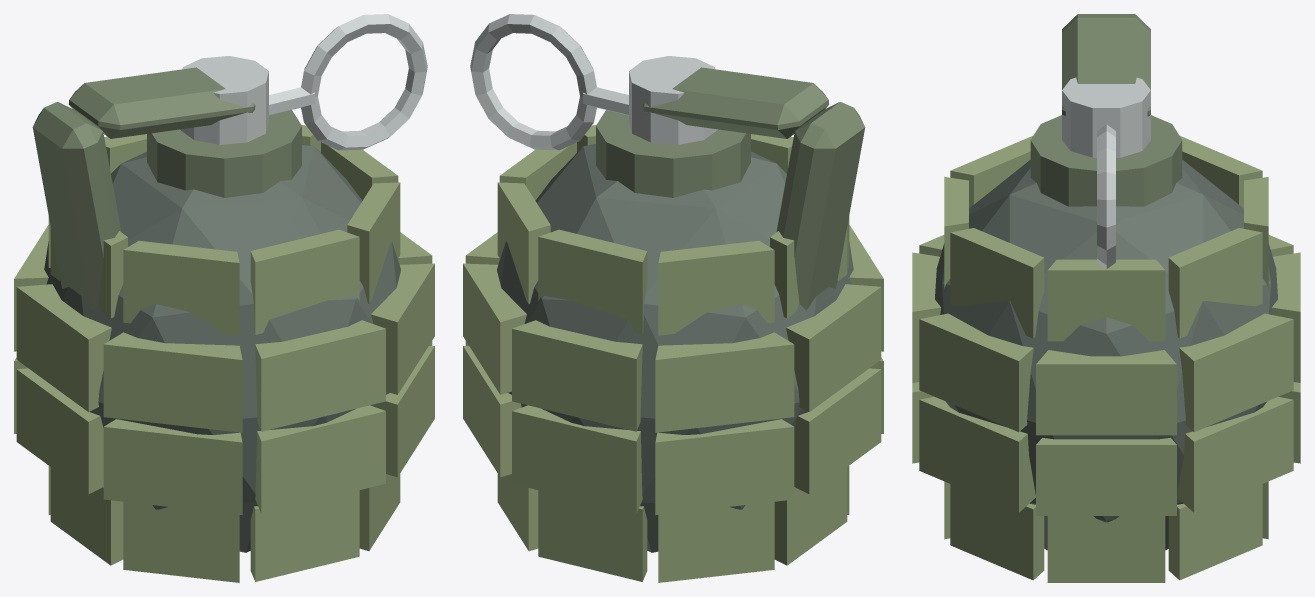
Rendered from Grenade.glb.
3 views of the same model, side by side, from view 1: azimuth 30°, elevation 25°; view 2: azimuth 150°, elevation 25°; view 3: azimuth 270°, elevation 25° (orthographic). The views are drawn at different scales.
Visible parts, largest first — view 1: StaticVisual; view 2: StaticVisual; view 3: StaticVisual.
Part boxes in pixels (x1,y1,x2,y2): StaticVisual: [14, 14, 434, 582]; StaticVisual: [463, 14, 883, 582]; StaticVisual: [912, 14, 1300, 582].
Size of the model in its own units: 0.1643 by 0.2027 by 0.1485.
